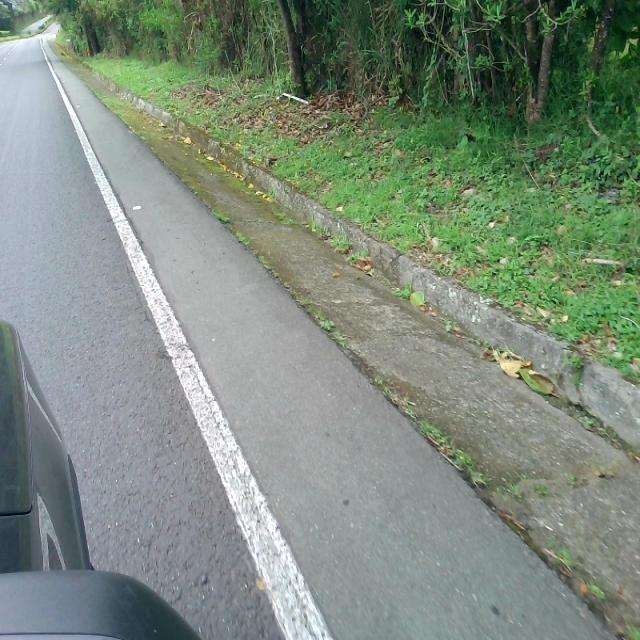DITCH: (8, 29, 638, 638), (37, 20, 638, 638), (1, 79, 638, 638)
